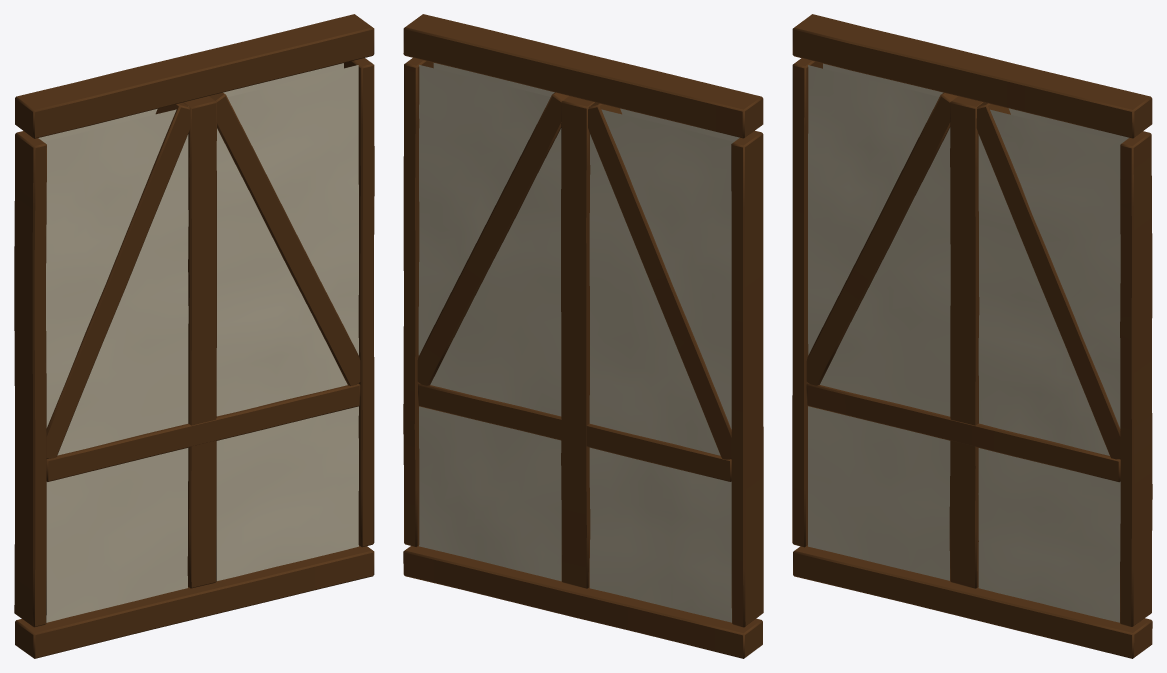
The model's file is wand.glb.
3 views of the same model, side by side, from view 1: azimuth 30°, elevation 25°; view 2: azimuth 150°, elevation 25°; view 3: azimuth 330°, elevation 25° (orthographic).
Parts seen in each view (by area): view 1: wand; view 2: wand; view 3: wand.
Part boxes in pixels (bbox=[...]): wand: bbox=[14, 14, 374, 658]; wand: bbox=[403, 14, 763, 658]; wand: bbox=[792, 14, 1152, 658].
Size of the model in its own units: 2 by 3.07 by 0.2049.
